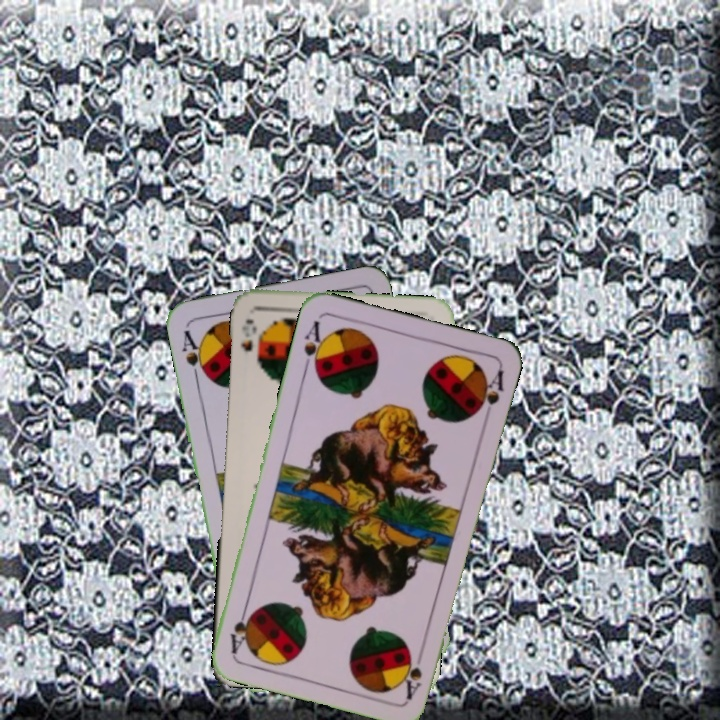SA: (177, 326, 210, 383), (300, 316, 329, 376), (401, 644, 428, 702)
SO: (237, 314, 260, 355)
